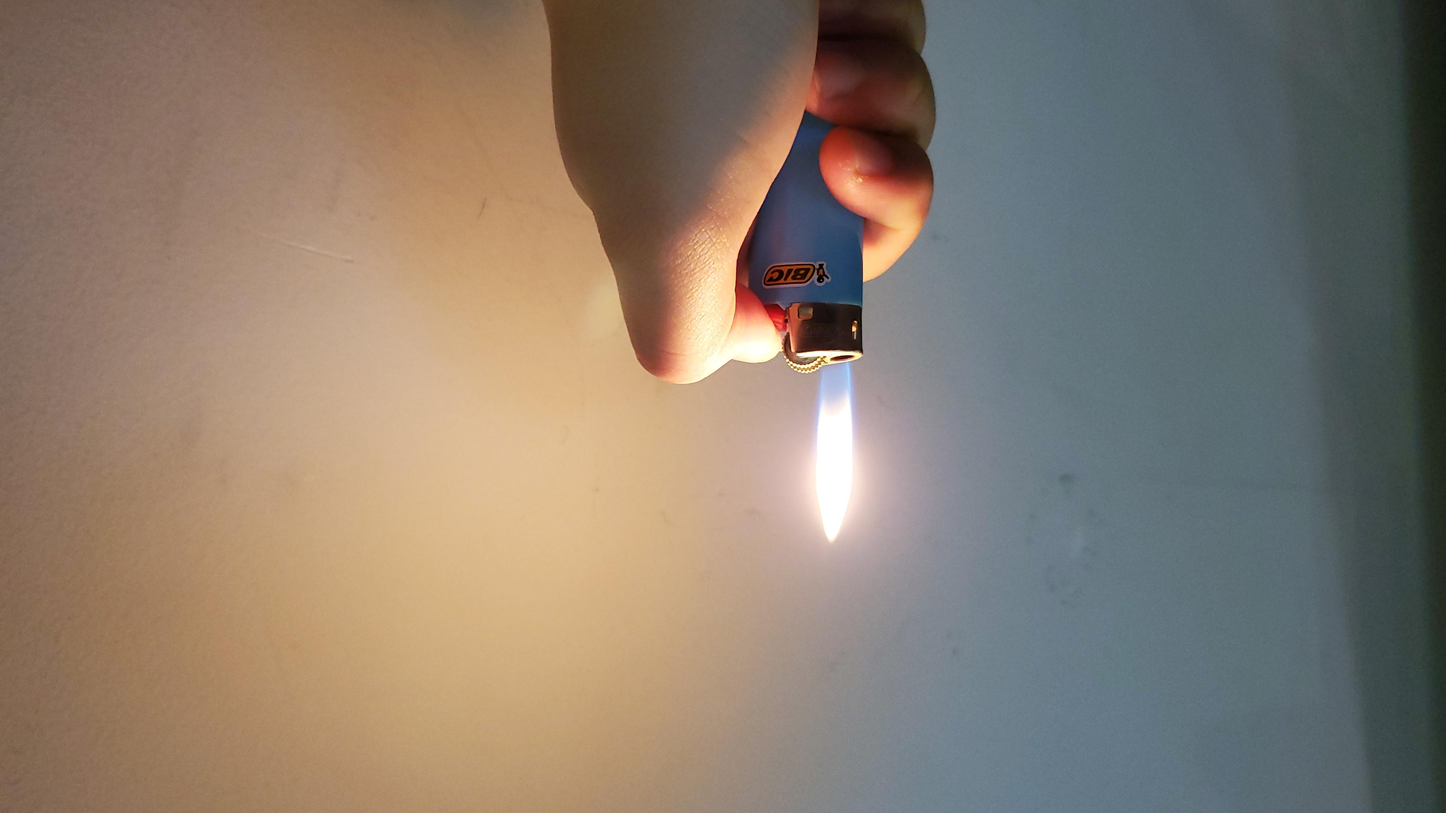fire: (589, 269, 664, 446)
